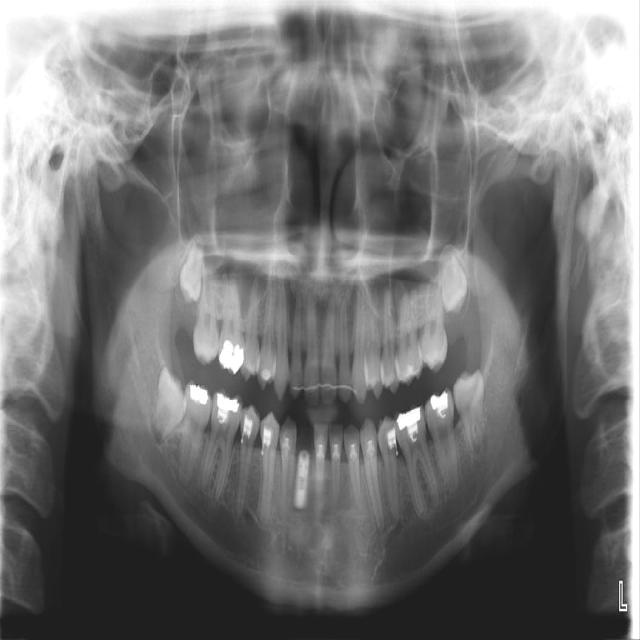Filling: (210, 387, 243, 432), (217, 342, 244, 376), (187, 385, 212, 410), (258, 365, 279, 384)
Implant: (293, 451, 310, 510)
impacted tooth: (454, 373, 488, 461), (152, 369, 188, 440), (440, 249, 470, 310), (176, 235, 204, 299)
